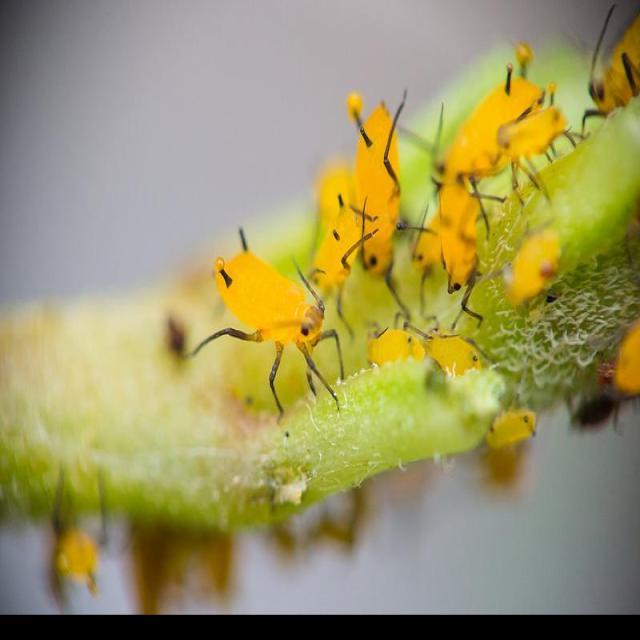aphid: (186, 234, 353, 418), (432, 75, 560, 192), (354, 86, 401, 322), (494, 98, 586, 182), (488, 212, 562, 309)
